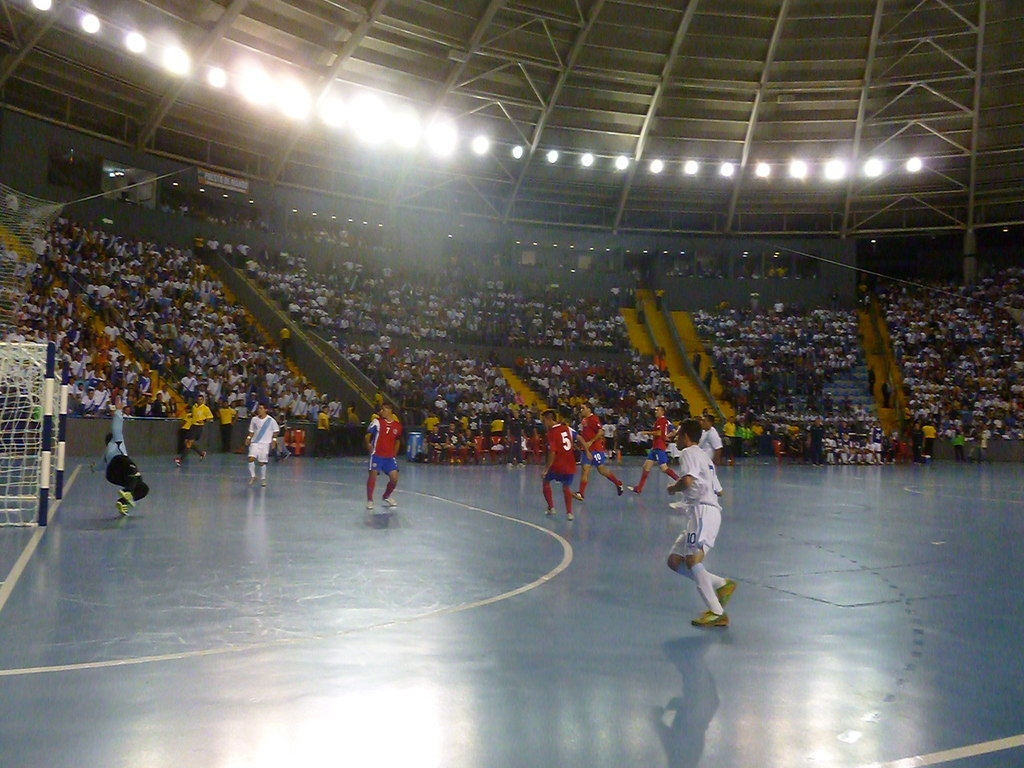Person: (0, 200, 1024, 626)
